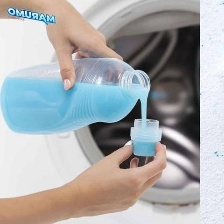cleaning_solution: (0, 53, 154, 138)
